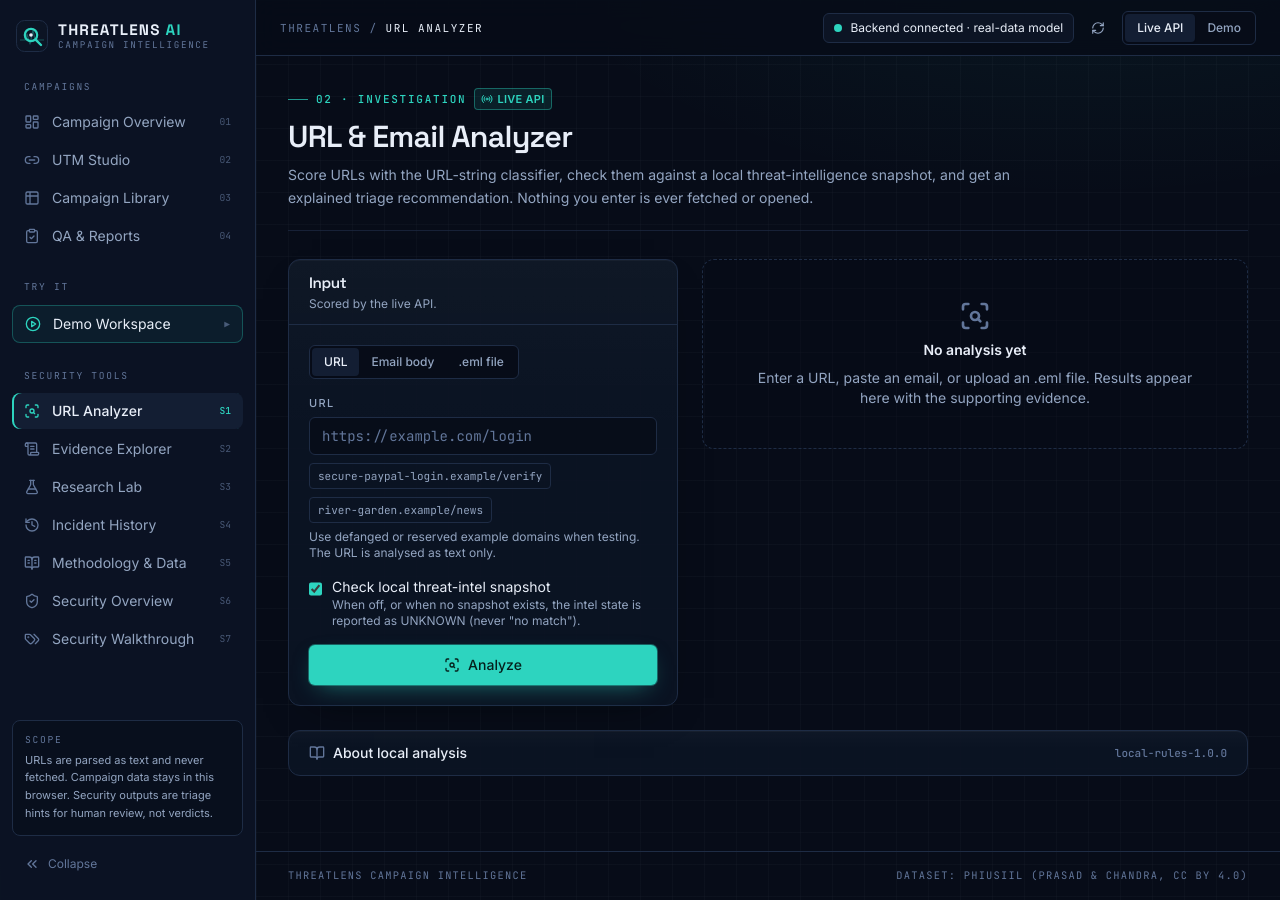
A. backend connected › keeps the existing backend behaviour and shows no local-mode warning
Expected: the message with test id "mode-pill" shows "Backend connected", top-left (850, 20), bottom-right (1063, 34)
In the field labelled "URL": (483, 436) top-left (309, 417), bottom-right (657, 455), type "http://secure-paypal-login.example/verify/a1b2c3"
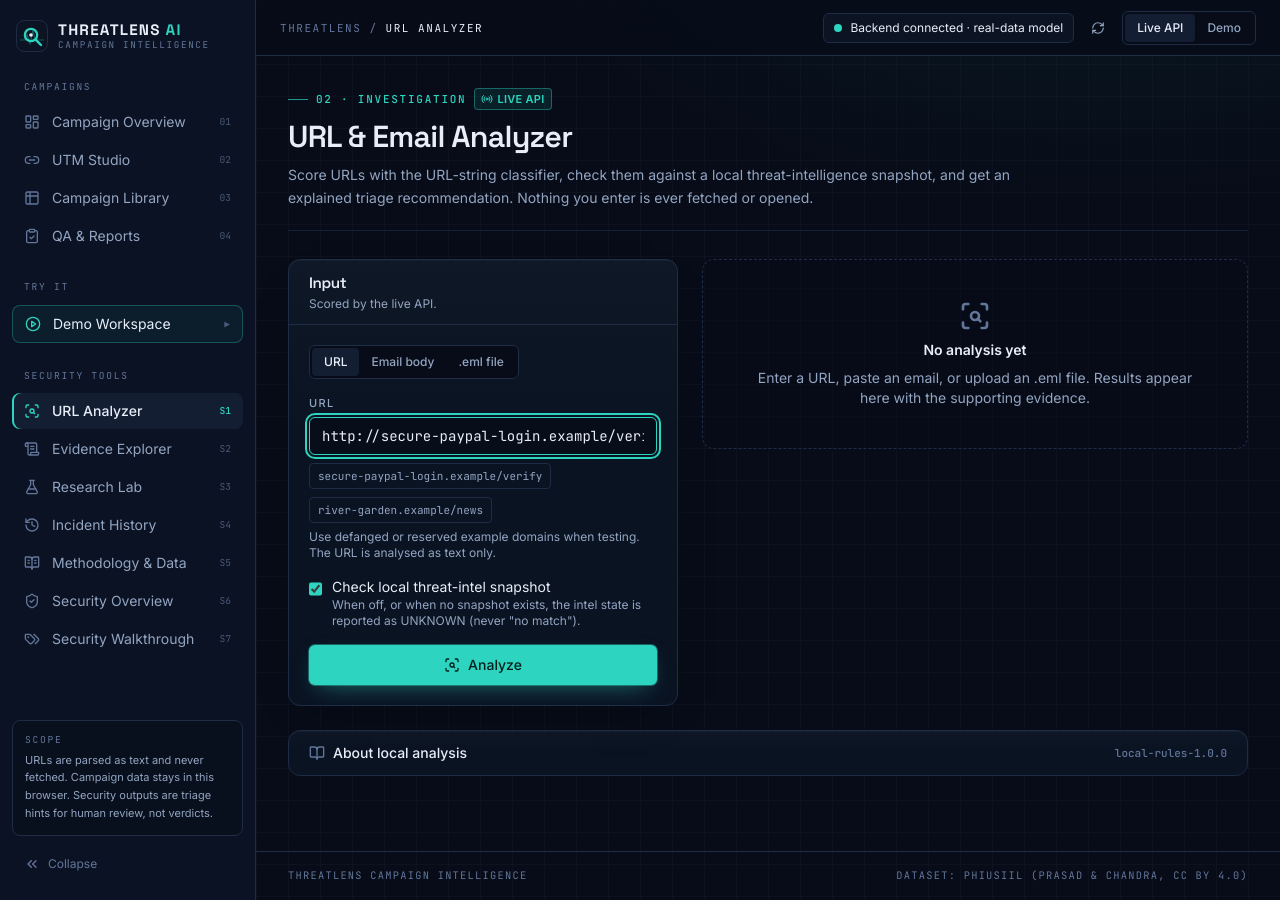
Click the button "Analyze": (483, 665) top-left (309, 645), bottom-right (657, 685)
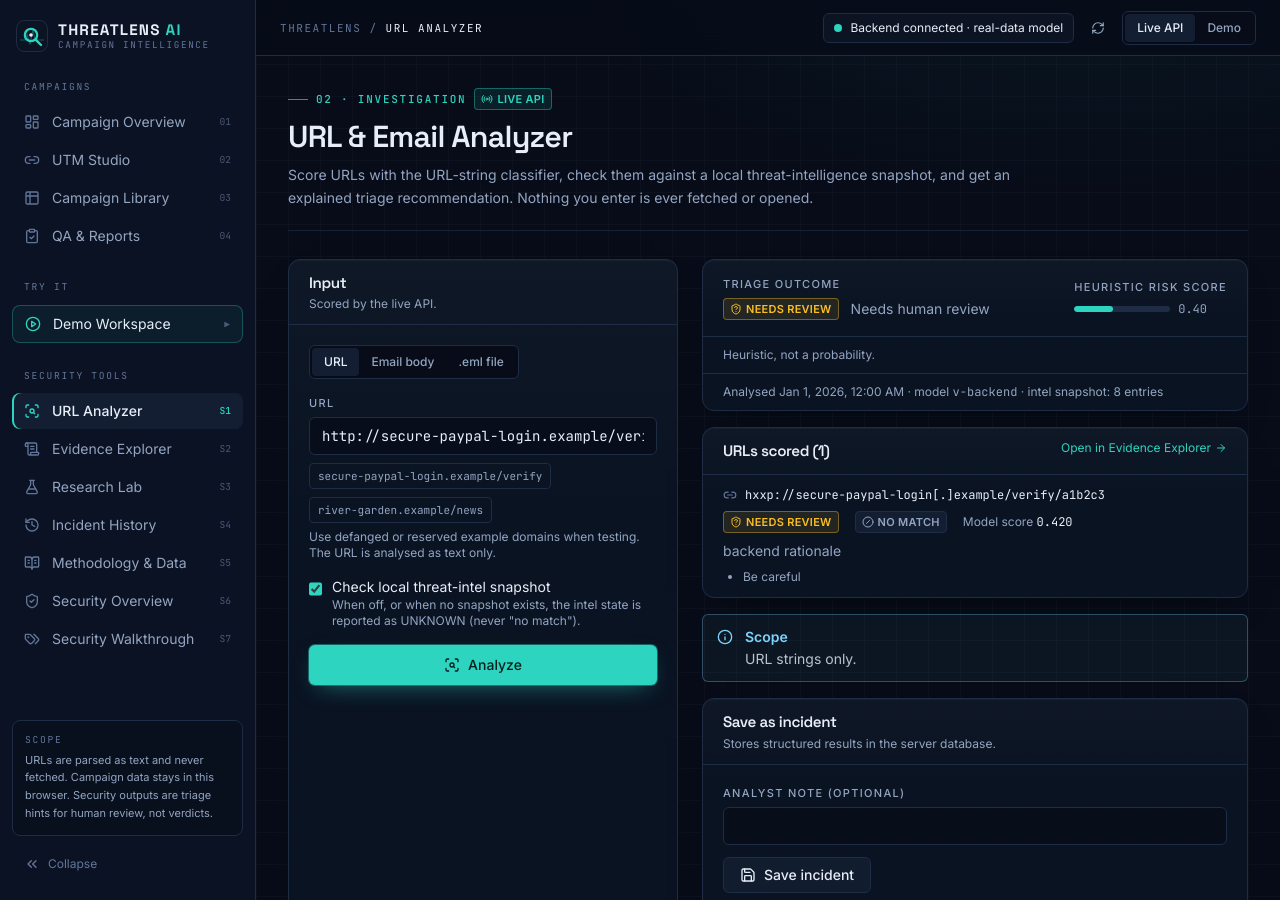
Result: the text "Triage outcome" is shown at top-left (723, 276), bottom-right (841, 290)
Result: the text "backend rationale" is shown at top-left (723, 542), bottom-right (841, 559)
